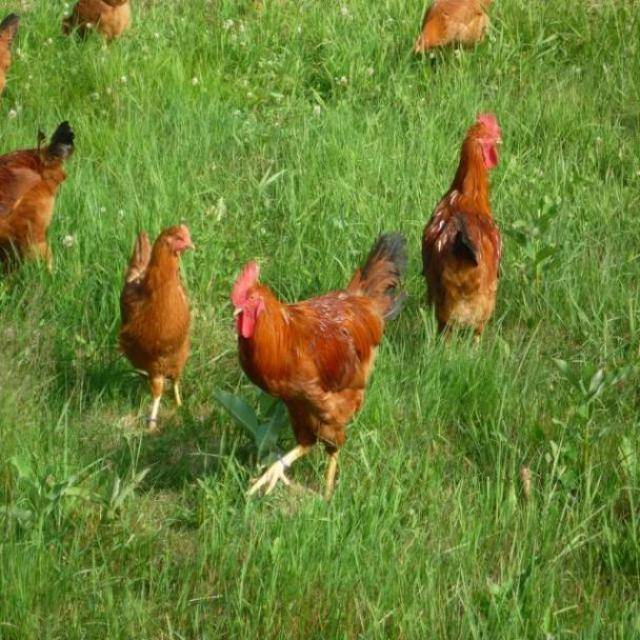Chicken: (233, 256, 414, 517), (425, 103, 509, 361), (115, 218, 199, 442), (0, 121, 79, 276), (410, 0, 494, 54), (57, 0, 131, 53), (0, 5, 14, 100)
